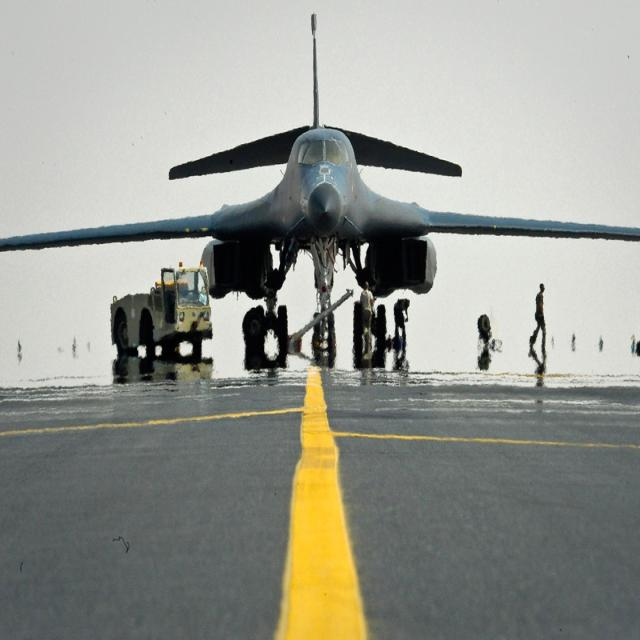B1: (0, 0, 640, 393)
